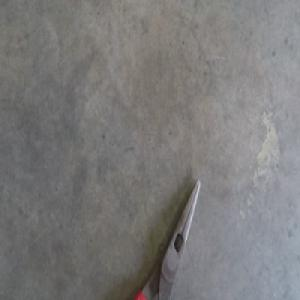Pliers: (135, 178, 200, 298)
